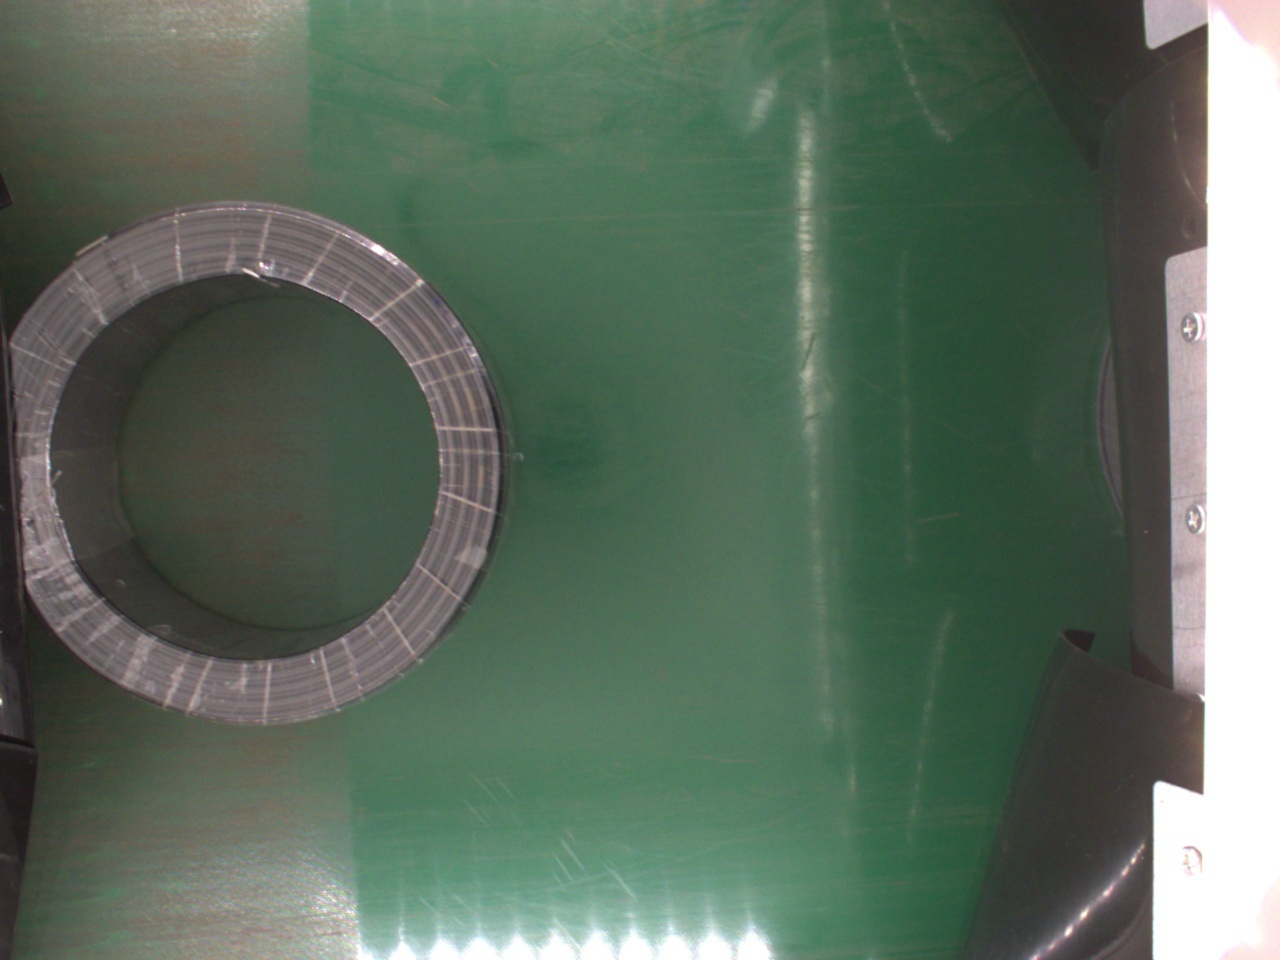black: (13, 205, 511, 726)
